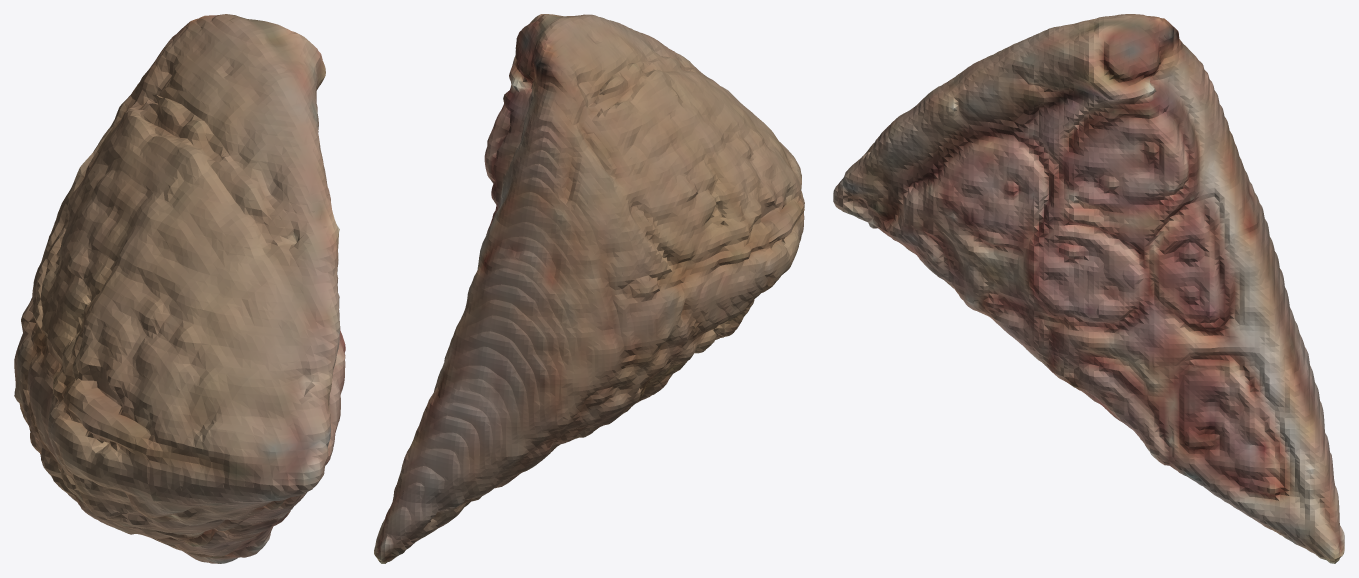
3 renders of one model, left to right at view 1: azimuth 30°, elevation 25°; view 2: azimuth 150°, elevation 25°; view 3: azimuth 270°, elevation 25°, orthographic. The views are drawn at different scales.
Parts seen in each view (by area): view 1: world; view 2: world; view 3: world.
Boxes of the visible parts, bbox=[...] form: world: bbox=[14, 14, 345, 563]; world: bbox=[374, 14, 804, 563]; world: bbox=[833, 14, 1344, 563].
Size of the model in its own units: 0.4285 by 0.7655 by 0.6953.
